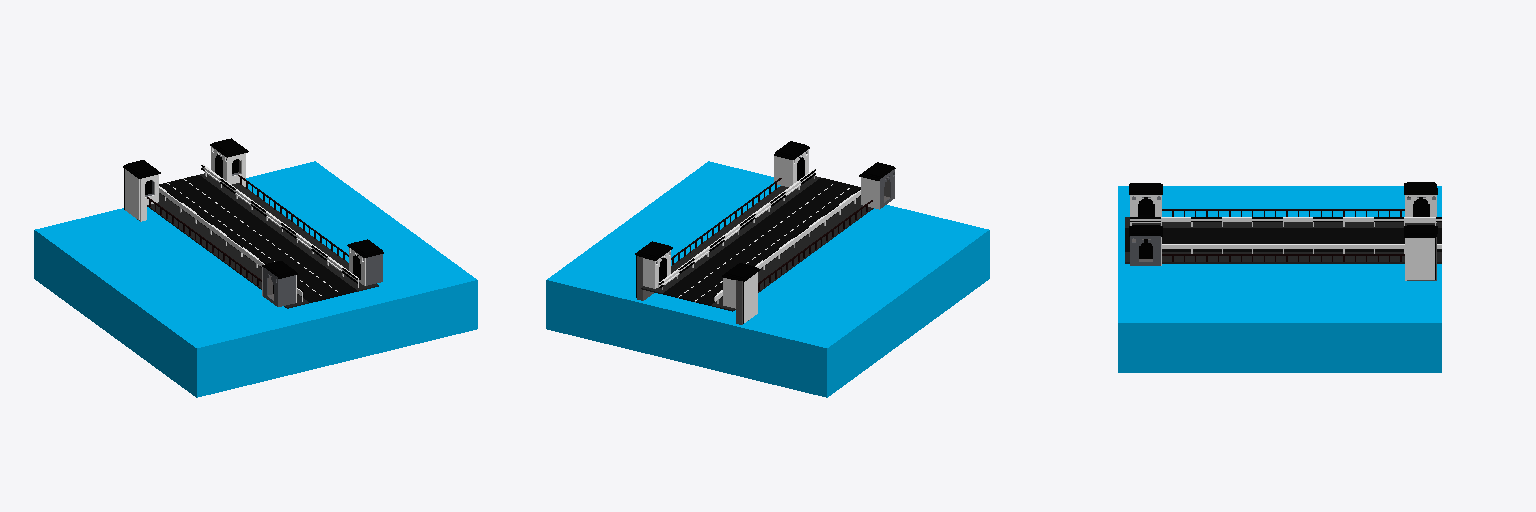
3 renders of one model, left to right at view 1: azimuth 30°, elevation 25°; view 2: azimuth 150°, elevation 25°; view 3: azimuth 270°, elevation 25°, orthographic.
Visible parts, largest first — view 1: object 1; view 2: object 1; view 3: object 1.
Boxes of the visible parts, x1=… form: object 1: x1=34, y1=138, x2=477, y2=397; object 1: x1=546, y1=141, x2=989, y2=397; object 1: x1=1118, y1=182, x2=1441, y2=372.
Bounding box in the file's own units: 25.6 × 8.4 × 25.6.
Materials: 1 (1 with a texture image).